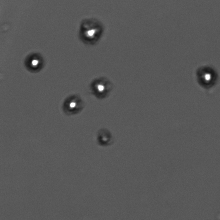Dead Cell: (96, 127, 116, 145)
Living Cell: (78, 19, 103, 46), (195, 64, 218, 90), (90, 76, 112, 98), (24, 52, 45, 74), (63, 93, 84, 115)
